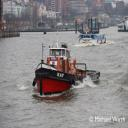tugboat: (32, 35, 103, 99)
